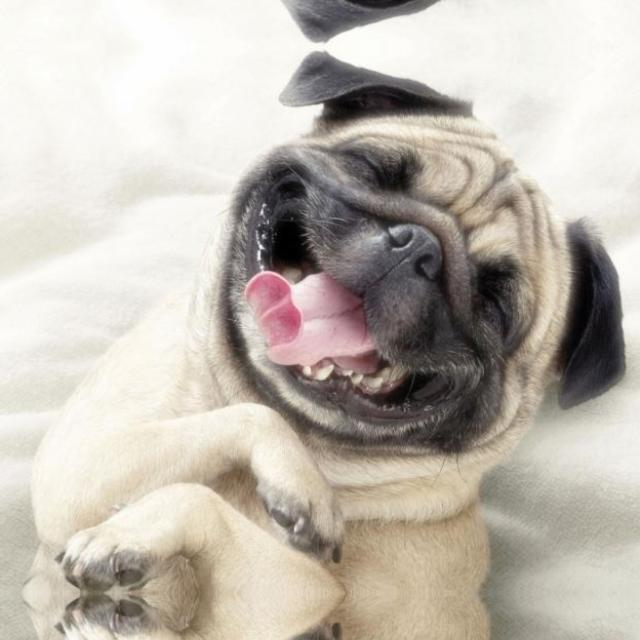dog: (149, 48, 635, 456), (149, 0, 635, 43)
